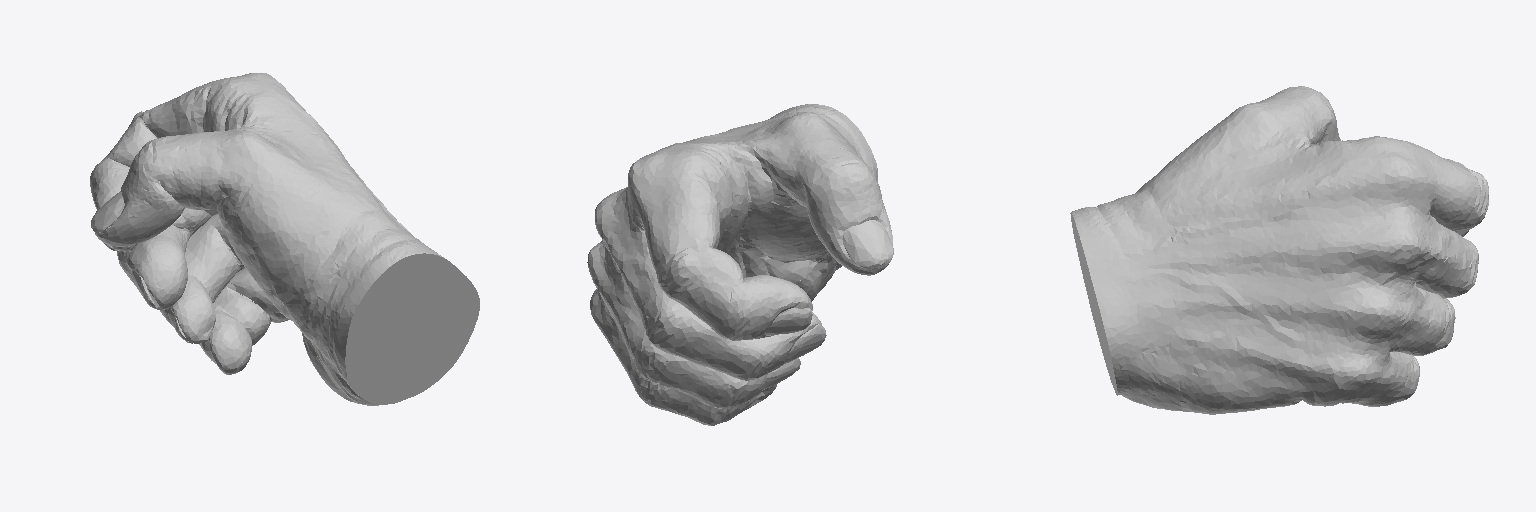
Rendered from rightHand.obj.
3 renders of one model, left to right at view 1: azimuth 30°, elevation 25°; view 2: azimuth 150°, elevation 25°; view 3: azimuth 270°, elevation 25°, orthographic.
Visible parts, largest first — view 1: uploads_files_[number redacted]_right_hand; view 2: uploads_files_[number redacted]_right_hand; view 3: uploads_files_[number redacted]_right_hand.
Part boxes in pixels (x1,y1,x2,y2): uploads_files_[number redacted]_right_hand: (90, 73, 479, 405); uploads_files_[number redacted]_right_hand: (587, 104, 893, 425); uploads_files_[number redacted]_right_hand: (1070, 86, 1488, 414).
Bounding box in the file's own units: 0.5449 × 0.505 × 0.6971.